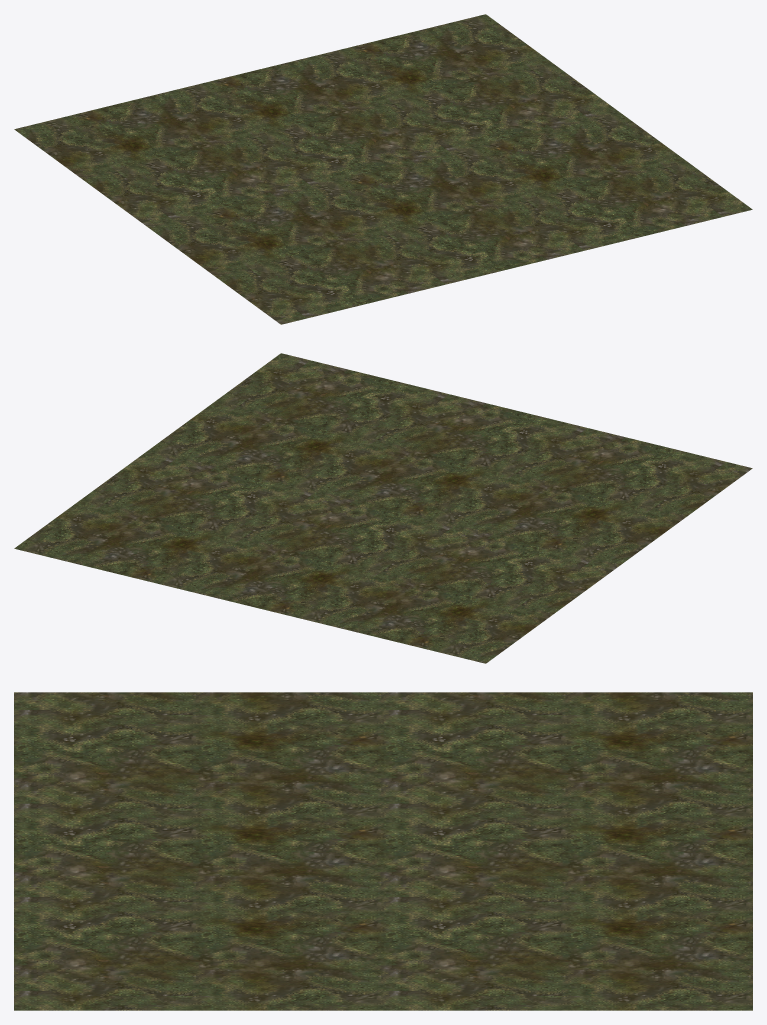
File: F_dimian002.fbx
3 views of the same model, one above another, from view 1: azimuth 30°, elevation 25°; view 2: azimuth 150°, elevation 25°; view 3: azimuth 270°, elevation 25° (orthographic). The views are drawn at different scales.
Visible parts, largest first — view 1: F_dimian002; view 2: F_dimian002; view 3: F_dimian002.
Part boxes in pixels (x1,y1,x2,y2): F_dimian002: (14, 14, 752, 324); F_dimian002: (14, 353, 752, 663); F_dimian002: (14, 692, 752, 1010).
Size of the model in its own units: 2000 by 3.05e-05 by 1961.
